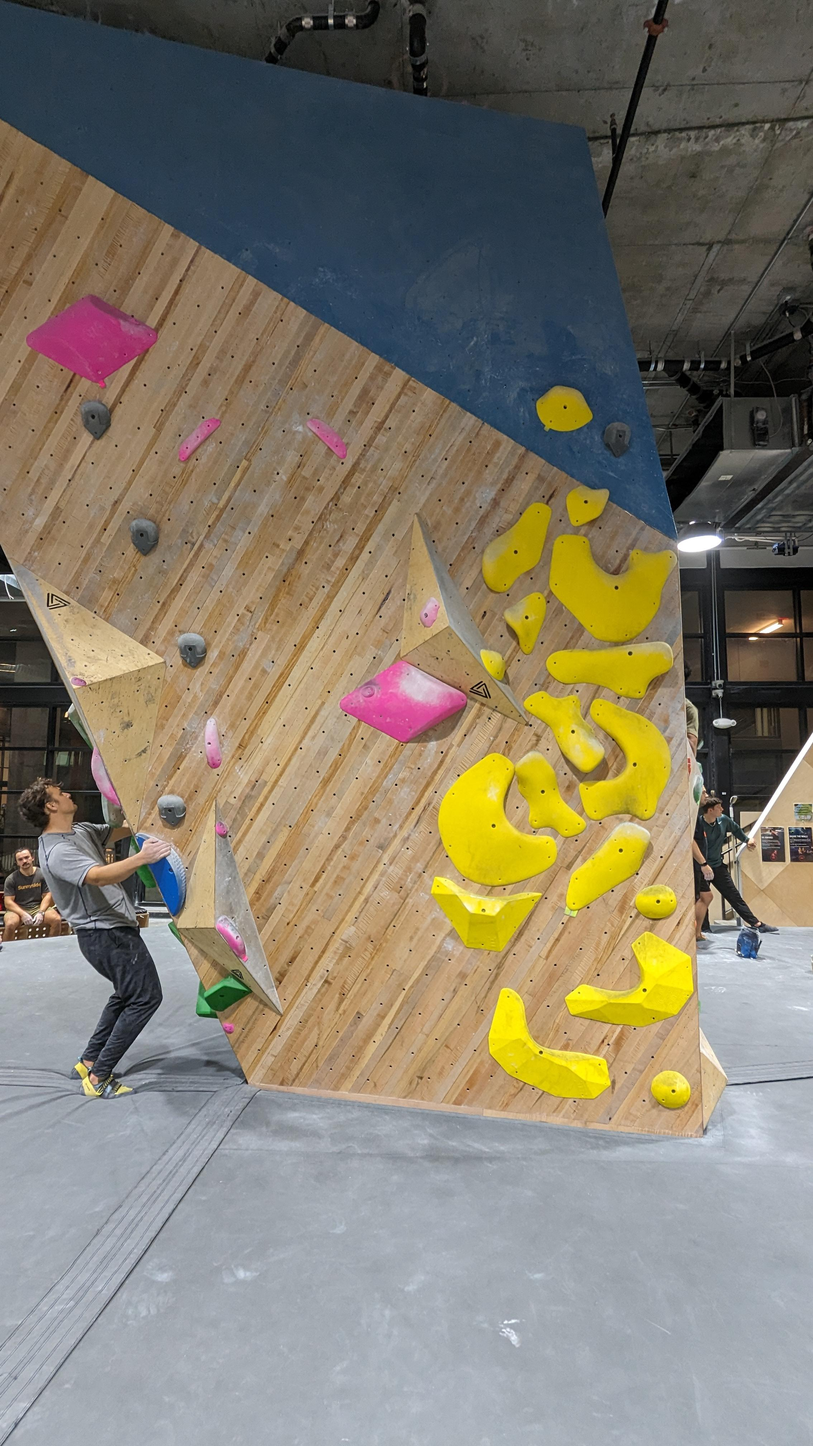black-hold: (415, 746, 566, 909), (558, 913, 713, 1069), (463, 983, 622, 1129), (21, 274, 162, 403), (539, 531, 680, 652), (336, 643, 471, 762), (575, 697, 678, 828), (551, 812, 663, 925), (465, 496, 573, 599), (520, 671, 621, 779), (497, 745, 590, 854), (423, 876, 543, 959), (545, 640, 676, 705), (499, 588, 565, 658), (141, 846, 205, 918), (529, 376, 596, 443), (556, 474, 618, 530), (643, 1062, 699, 1117), (82, 745, 122, 814), (172, 411, 223, 464), (303, 411, 354, 462), (200, 968, 253, 1017), (72, 394, 119, 441), (121, 511, 167, 557), (169, 624, 215, 669), (211, 913, 253, 960), (596, 415, 640, 459), (150, 787, 193, 829), (474, 641, 514, 684), (88, 793, 131, 833), (184, 979, 219, 1027), (634, 883, 678, 920), (64, 703, 95, 754), (201, 716, 224, 770), (417, 594, 442, 629), (135, 863, 159, 892), (129, 826, 154, 852), (167, 921, 186, 951), (120, 833, 141, 858), (689, 775, 707, 804), (210, 819, 231, 839), (69, 676, 88, 688), (221, 1022, 236, 1034), (687, 757, 692, 776), (696, 761, 703, 774)
